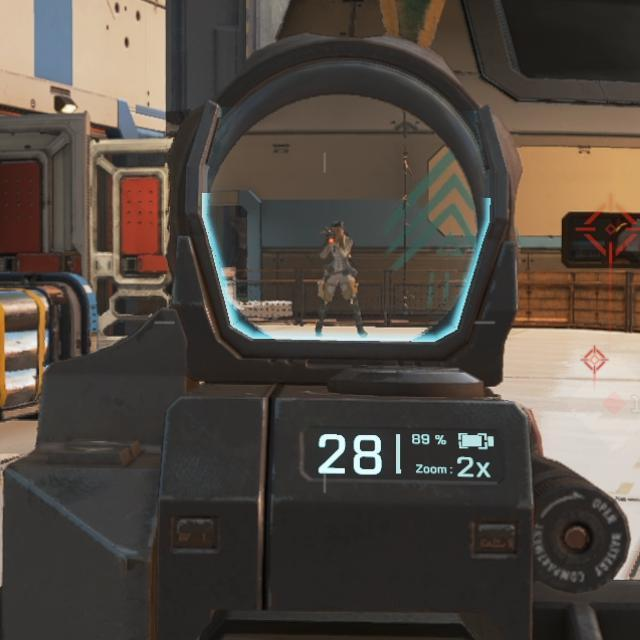avatar: (319, 218, 358, 311)
